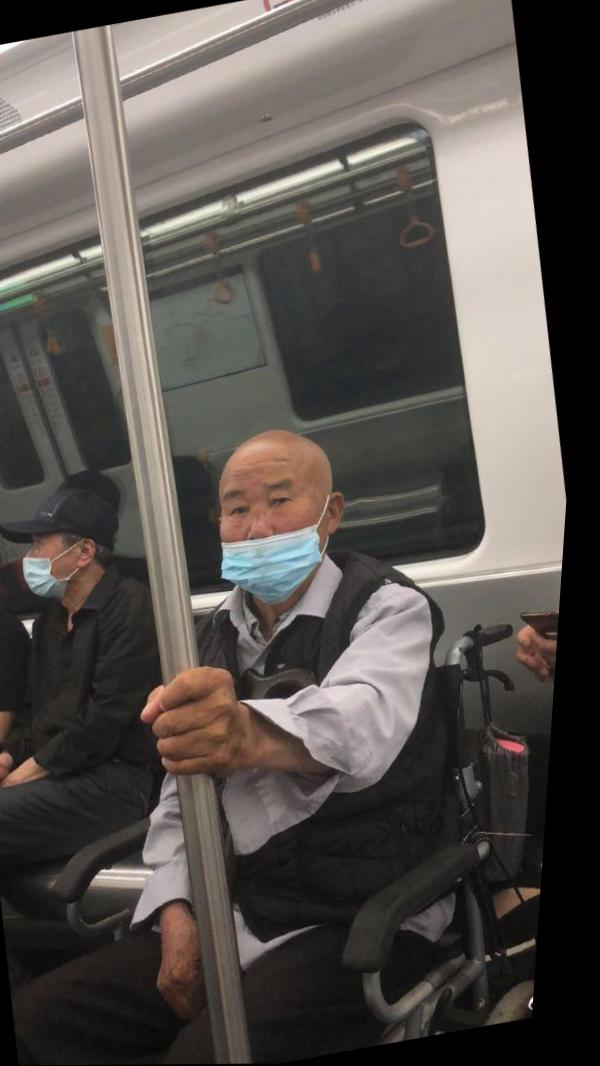OK: (23, 525, 92, 602)
WRONG: (214, 461, 347, 605)
